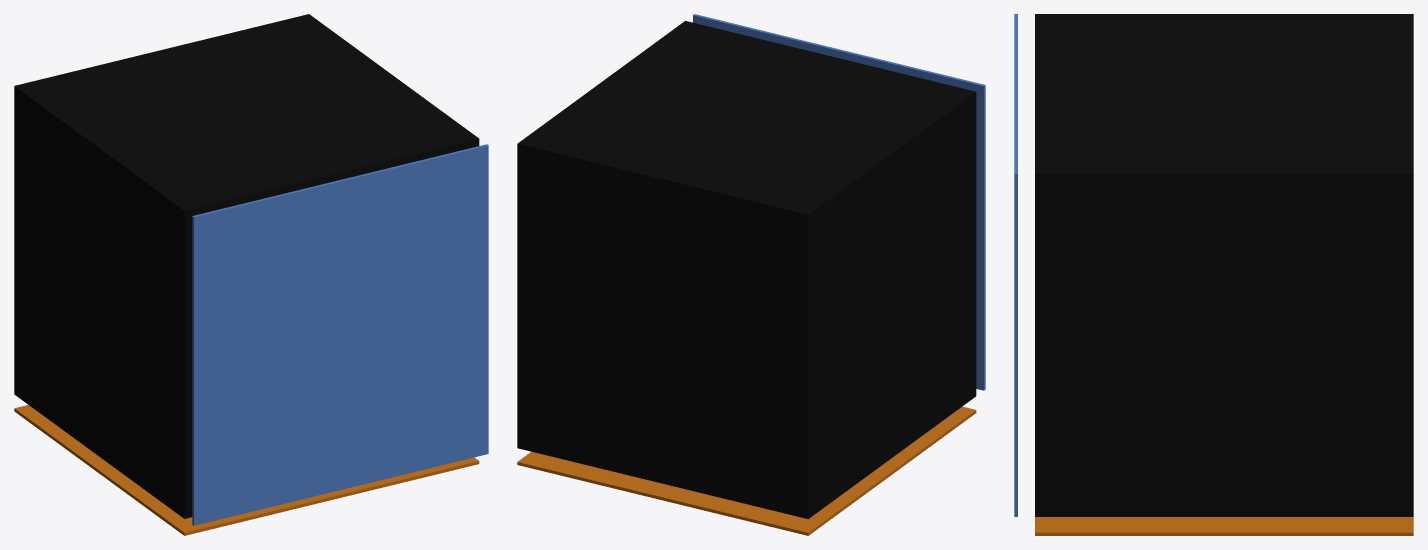
3 views of the same model, side by side, from view 1: azimuth 30°, elevation 25°; view 2: azimuth 150°, elevation 25°; view 3: azimuth 270°, elevation 25° (orthographic). The views are drawn at different scales.
Visible parts, largest first — view 1: Cube, blue-9, red-1; view 2: Cube, red-1, blue-9; view 3: Cube, red-1, blue-9.
Part boxes in pixels (box(x1,y1,x2,y2)): Cube: box(14, 14, 479, 518); blue-9: box(192, 144, 488, 525); red-1: box(14, 405, 479, 535); Cube: box(517, 21, 976, 518); red-1: box(517, 406, 976, 535); blue-9: box(693, 14, 985, 390); Cube: box(1035, 14, 1413, 516); red-1: box(1035, 517, 1413, 535); blue-9: box(1014, 14, 1017, 516).
Size of the model in its own units: 2 by 2.11 by 2.11.
